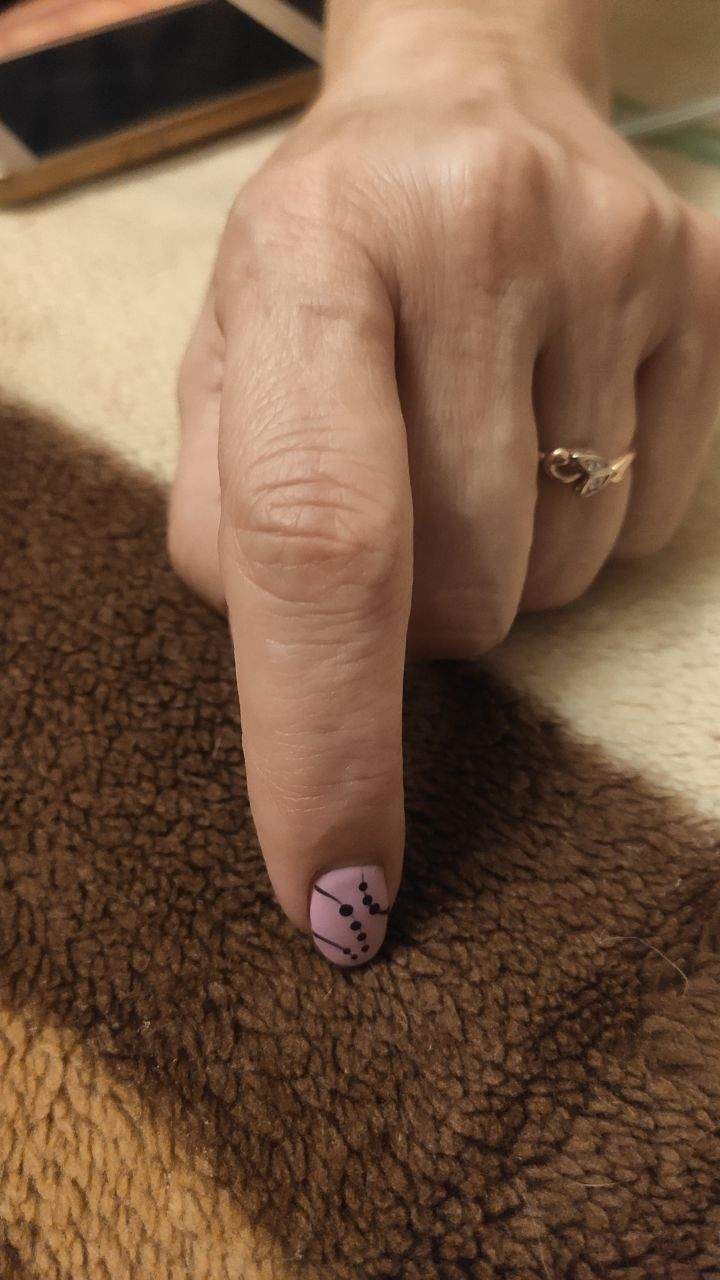finger: (265, 821, 408, 967)
